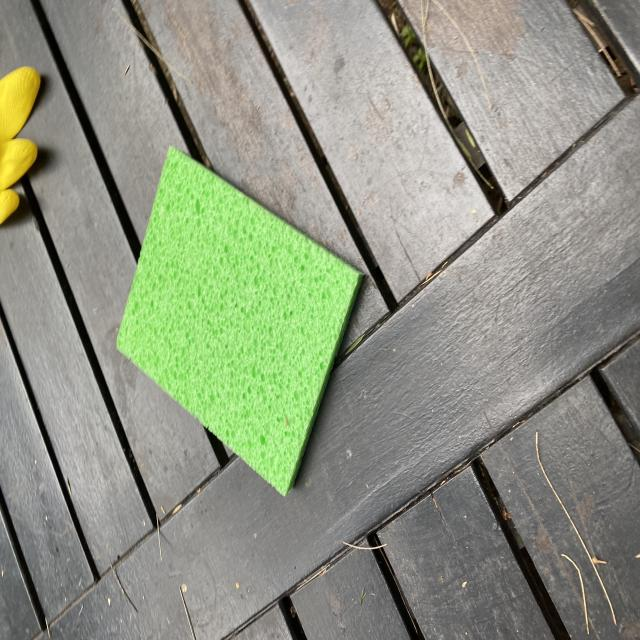sponge: (115, 147, 366, 499)
